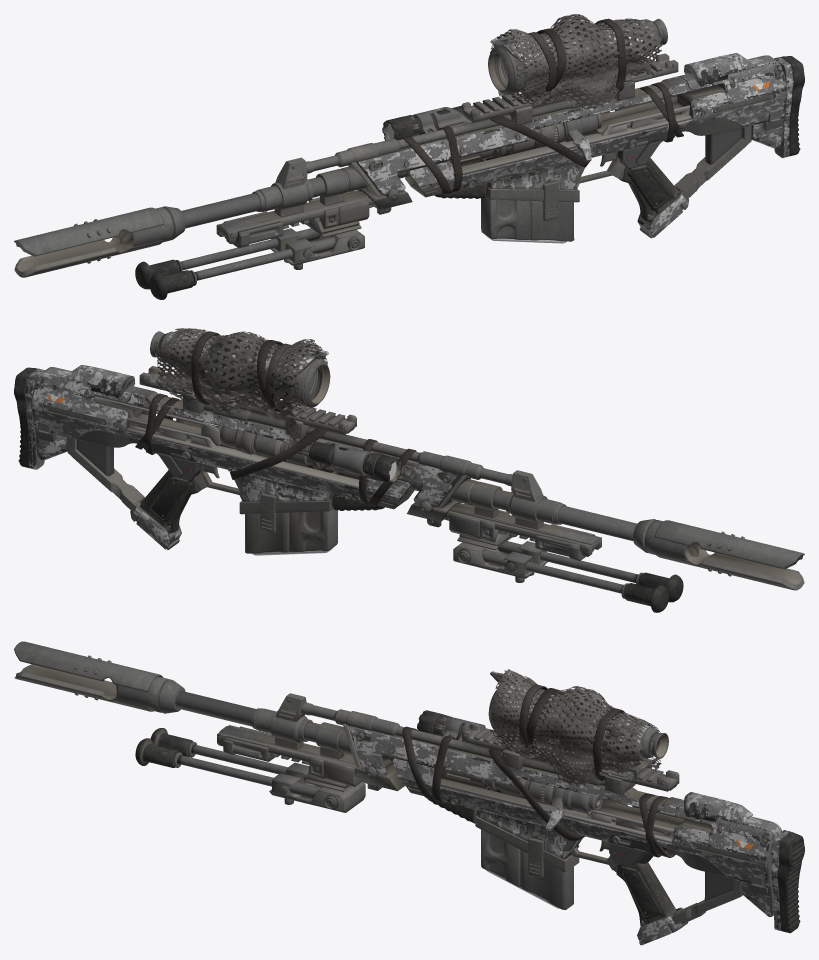
Rendered from mks_.50_cal_sniper_rifle_jungle.glb.
The picture shows the model from 3 angles, top to bottom: view 1: azimuth 30°, elevation 25°; view 2: azimuth 150°, elevation 25°; view 3: azimuth 330°, elevation 25°; orthographic projection.
Parts seen in each view (by area): view 1: Object_20, Object_5, Object_16, Object_31, Object_9, Object_32, Object_3, Object_33, Object_4, Object_29, Object_15, Object_8 (+10 smaller); view 2: Object_20, Object_5, Object_16, Object_31, Object_9, Object_32, Object_3, Object_33, Object_29, Object_4, Object_8, Object_15 (+10 smaller); view 3: Object_20, Object_16, Object_5, Object_31, Object_9, Object_32, Object_3, Object_33, Object_4, Object_29, Object_15, Object_8 (+9 smaller).
Part boxes in pixels (left/top/right/bottom): Object_20: left=357, top=53, right=786, bottom=195; Object_5: left=252, top=71, right=780, bottom=216; Object_16: left=490, top=14, right=662, bottom=109; Object_31: left=181, top=53, right=678, bottom=248; Object_9: left=14, top=206, right=185, bottom=277; Object_32: left=175, top=191, right=369, bottom=285; Object_3: left=486, top=71, right=787, bottom=238; Object_33: left=480, top=57, right=793, bottom=237; Object_4: left=481, top=196, right=574, bottom=241; Object_29: left=453, top=94, right=691, bottom=175; Object_15: left=401, top=82, right=683, bottom=194; Object_8: left=488, top=18, right=667, bottom=94; Object_20: left=32, top=365, right=461, bottom=507; Object_5: left=38, top=383, right=566, bottom=529; Object_16: left=157, top=328, right=327, bottom=440; Object_31: left=139, top=366, right=636, bottom=560; Object_9: left=633, top=519, right=804, bottom=590; Object_32: left=449, top=503, right=642, bottom=598; Object_3: left=31, top=383, right=333, bottom=549; Object_33: left=25, top=368, right=339, bottom=549; Object_29: left=88, top=395, right=359, bottom=487; Object_4: left=245, top=508, right=337, bottom=553; Object_8: left=150, top=331, right=330, bottom=407; Object_15: left=135, top=393, right=416, bottom=506; Object_20: left=349, top=726, right=781, bottom=887; Object_16: left=491, top=669, right=661, bottom=786; Object_5: left=251, top=693, right=766, bottom=877; Object_31: left=175, top=691, right=679, bottom=794; Object_9: left=14, top=641, right=185, bottom=713; Object_32: left=174, top=741, right=365, bottom=812; Object_3: left=475, top=815, right=773, bottom=944; Object_33: left=478, top=787, right=790, bottom=945; Object_4: left=481, top=829, right=573, bottom=909; Object_29: left=440, top=778, right=686, bottom=842; Object_15: left=402, top=726, right=675, bottom=857; Object_8: left=488, top=690, right=668, bottom=781.
Size of the model in its own units: 1.39 by 0.408 by 0.1389.
Materials: 29 (21 with a texture image).
